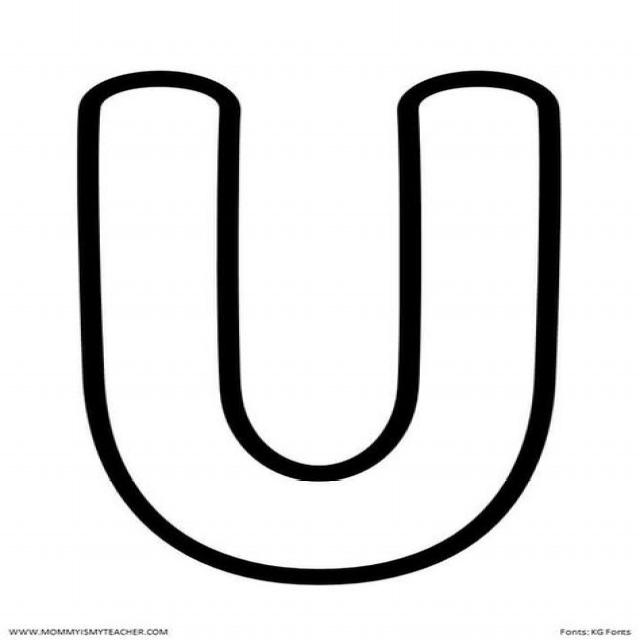U: (60, 32, 581, 609)
